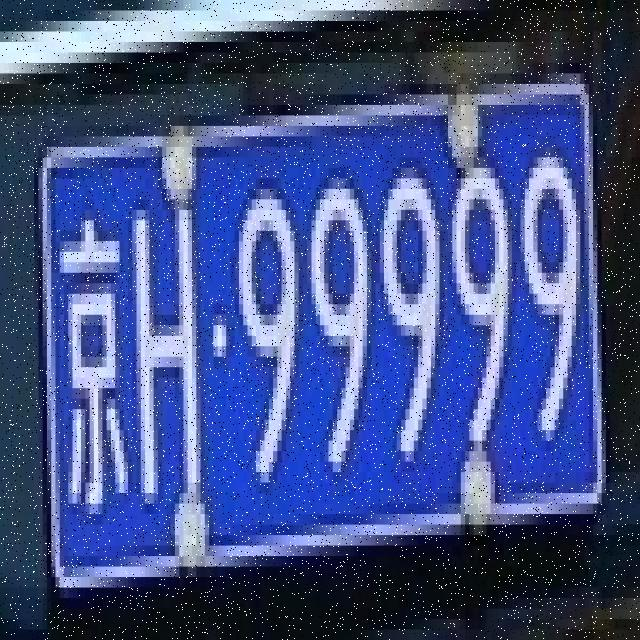licenseplate: (22, 52, 622, 613)
